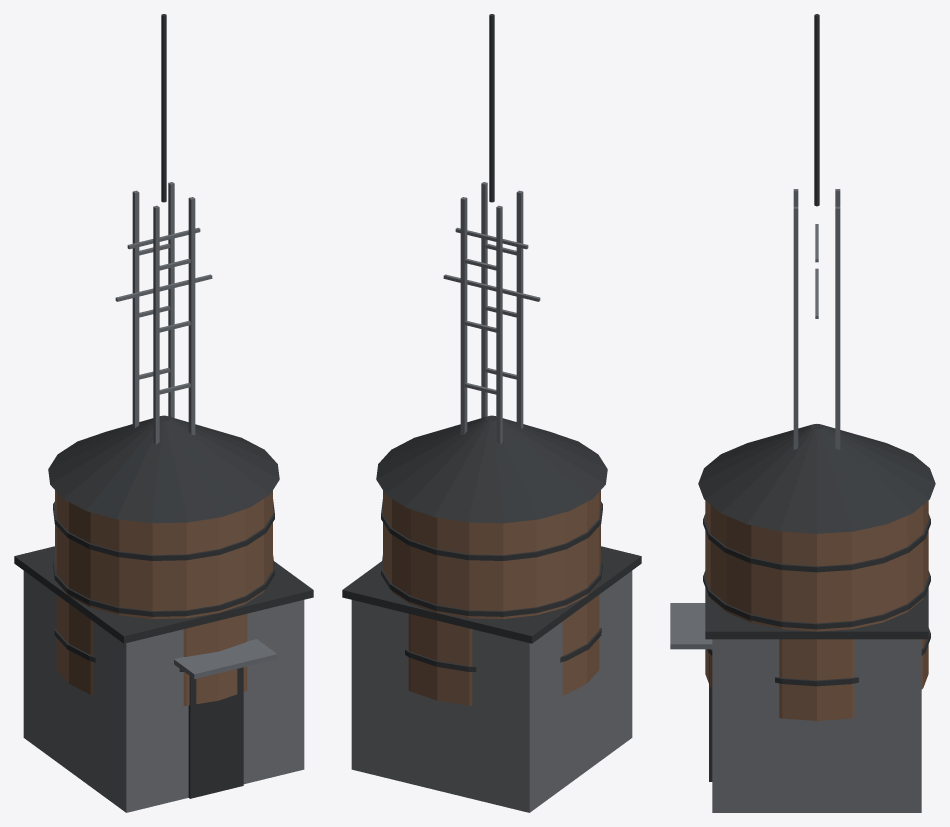
File: kit.glb
The picture shows the model from 3 angles, left to right: view 1: azimuth 30°, elevation 25°; view 2: azimuth 150°, elevation 25°; view 3: azimuth 270°, elevation 25°; orthographic projection. The views are drawn at different scales.
Parts seen in each view (by area): view 1: StairHouse, WaterTank, Antenna; view 2: WaterTank, StairHouse, Antenna; view 3: WaterTank, StairHouse, Antenna.
Boxes of the visible parts, box(x1,y1,x2,y2) form: StairHouse: box(14, 546, 313, 812); WaterTank: box(48, 415, 279, 705); Antenna: box(115, 14, 212, 444); WaterTank: box(376, 415, 607, 705); StairHouse: box(342, 546, 641, 812); Antenna: box(443, 14, 540, 444); WaterTank: box(698, 424, 935, 720); StairHouse: box(670, 588, 928, 812); Antenna: box(793, 14, 840, 449).
Bounding box in the file's own units: 3.4 × 11.9 × 3.8.
